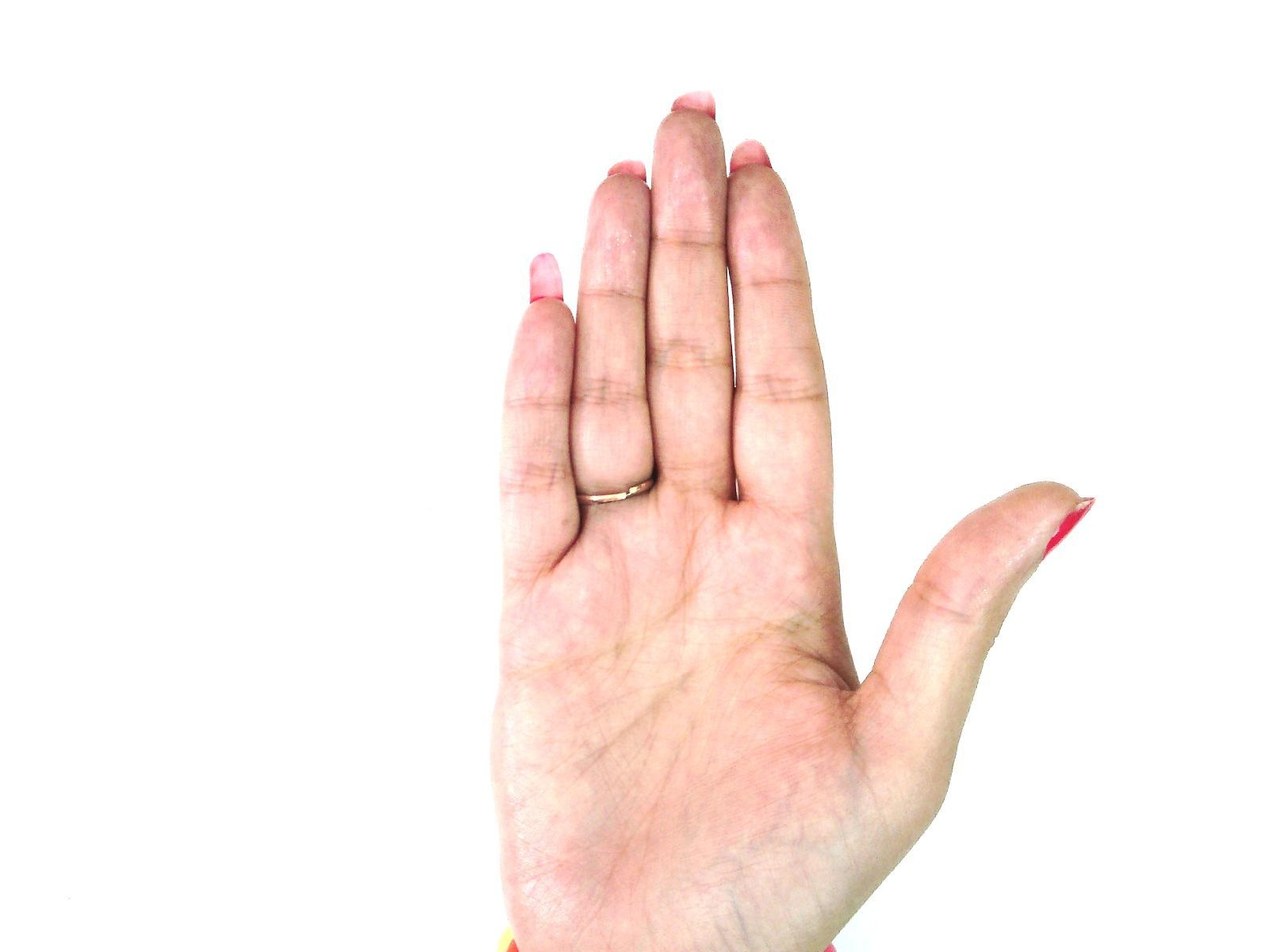open_palm: (486, 90, 1097, 951)
